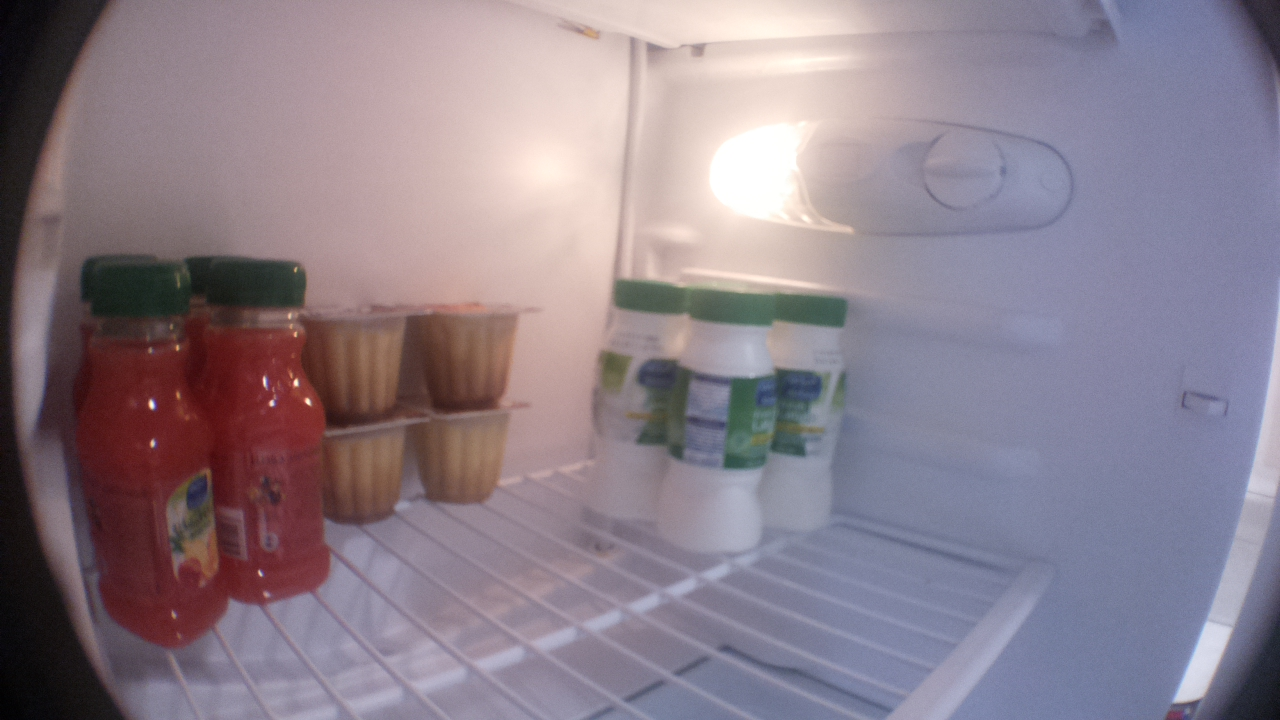caramel: (397, 296, 546, 413), (292, 287, 417, 422), (407, 404, 527, 509), (319, 424, 424, 525)
juice: (77, 245, 228, 649), (196, 247, 340, 606)
laban: (652, 283, 794, 553), (579, 273, 682, 531), (764, 287, 862, 540)
